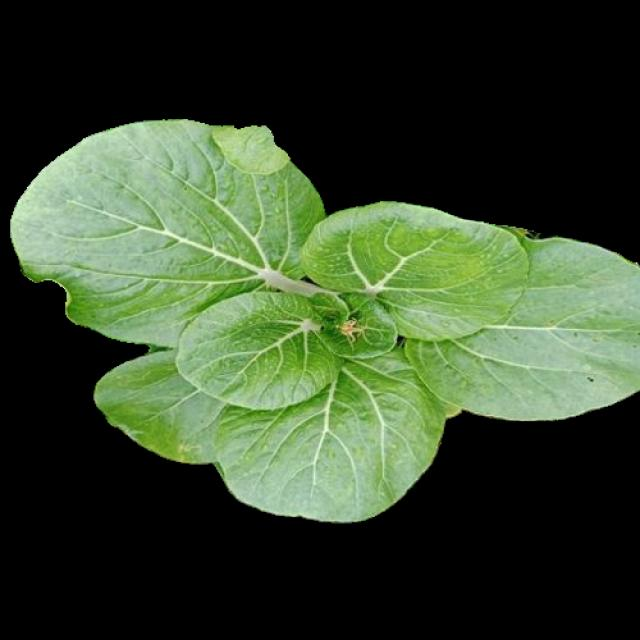mature: (10, 121, 640, 520)
unhealthy: (96, 335, 442, 520), (404, 226, 635, 418)
